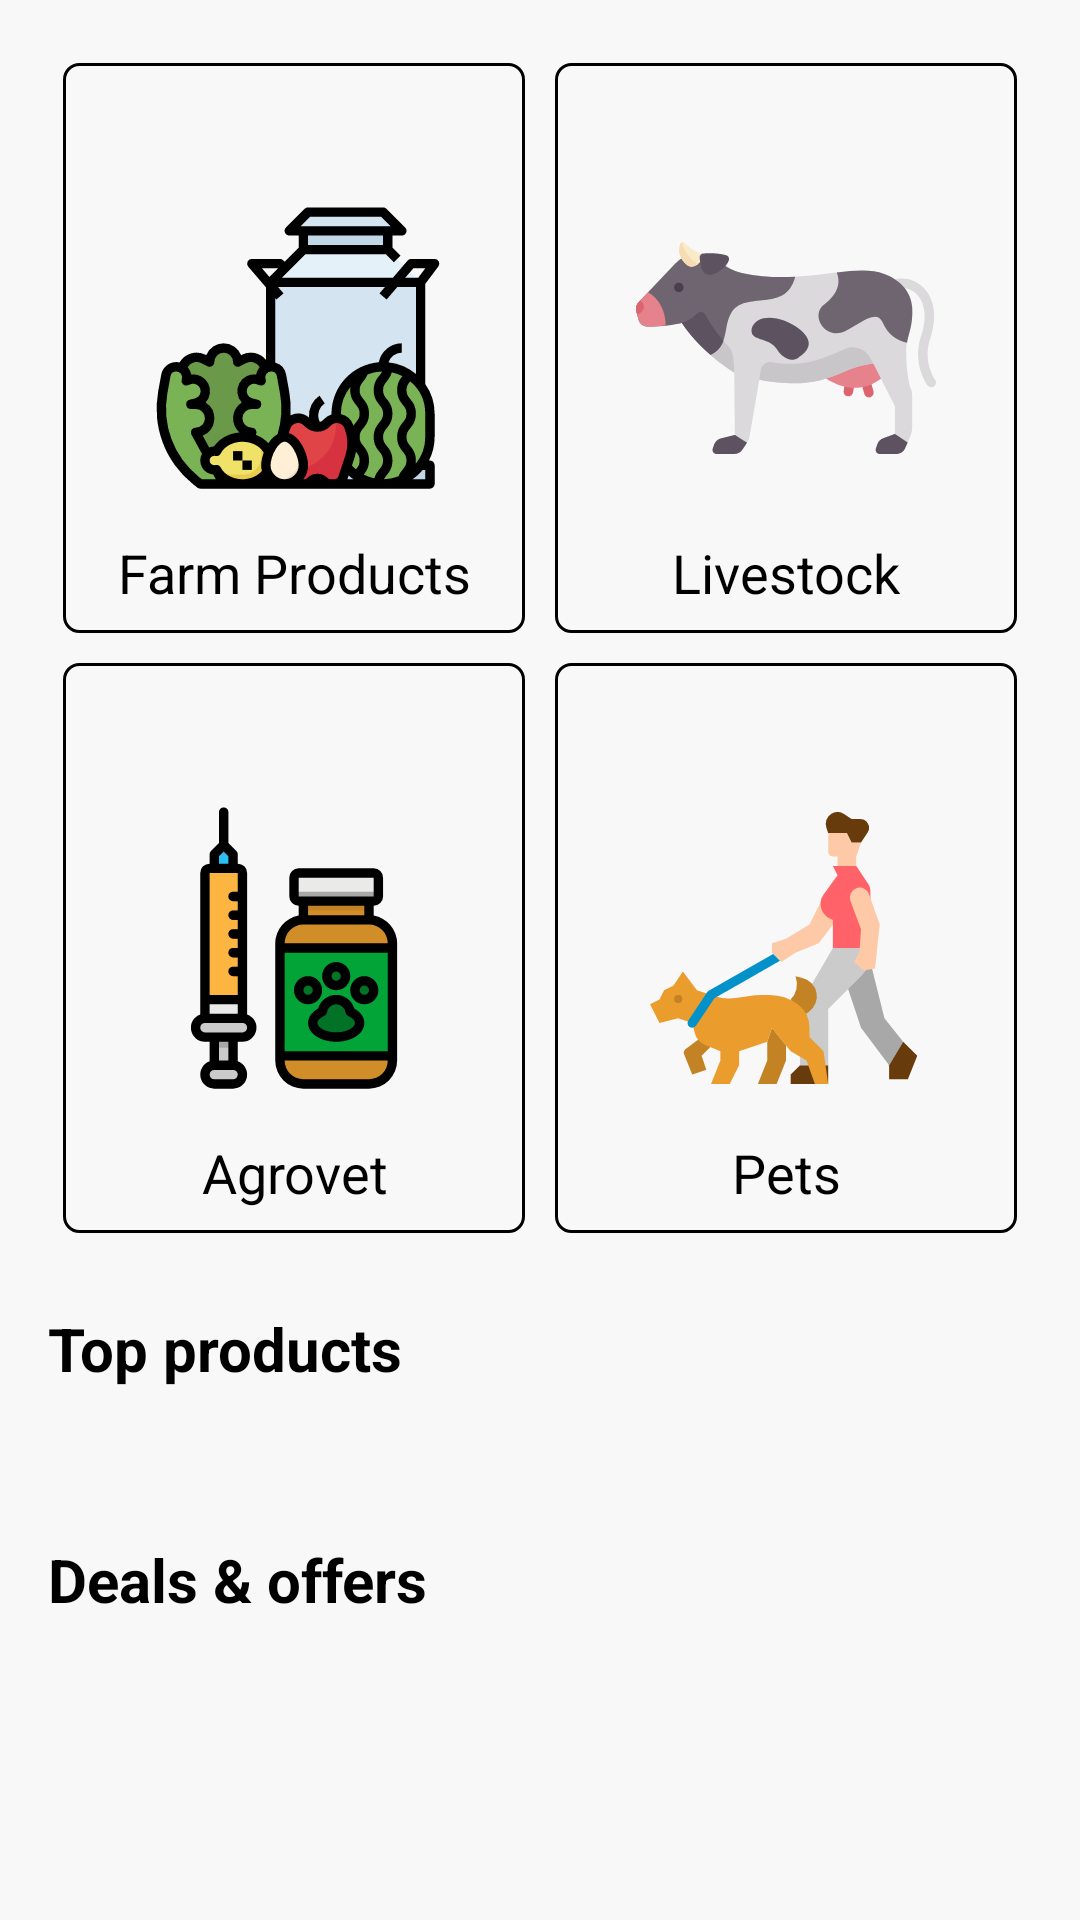

Icon click points for this 1080px×1920px phone screenshot, format point (x, y):
cow: point (786, 348)
dog: point (783, 948)
vaccine: point (294, 948)
